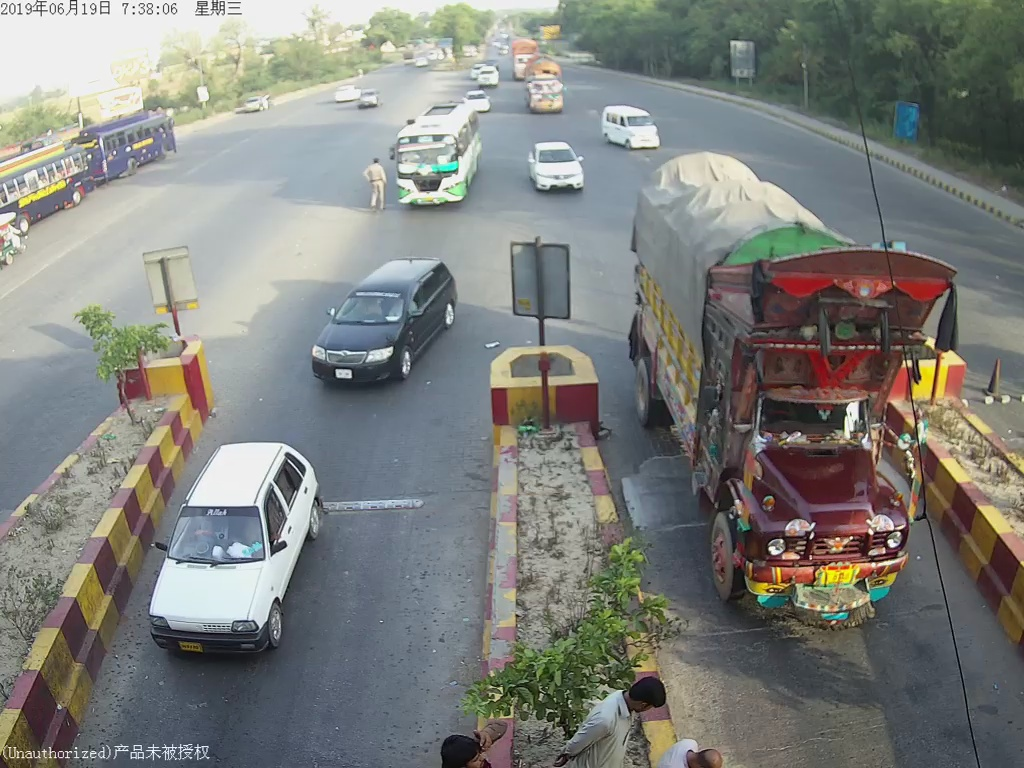Cat-1: (144, 437, 331, 653), (303, 255, 458, 380), (600, 96, 671, 156), (524, 133, 590, 195)
Cat-3: (389, 97, 487, 210)
Cat-4: (638, 162, 937, 620), (521, 53, 571, 117)
